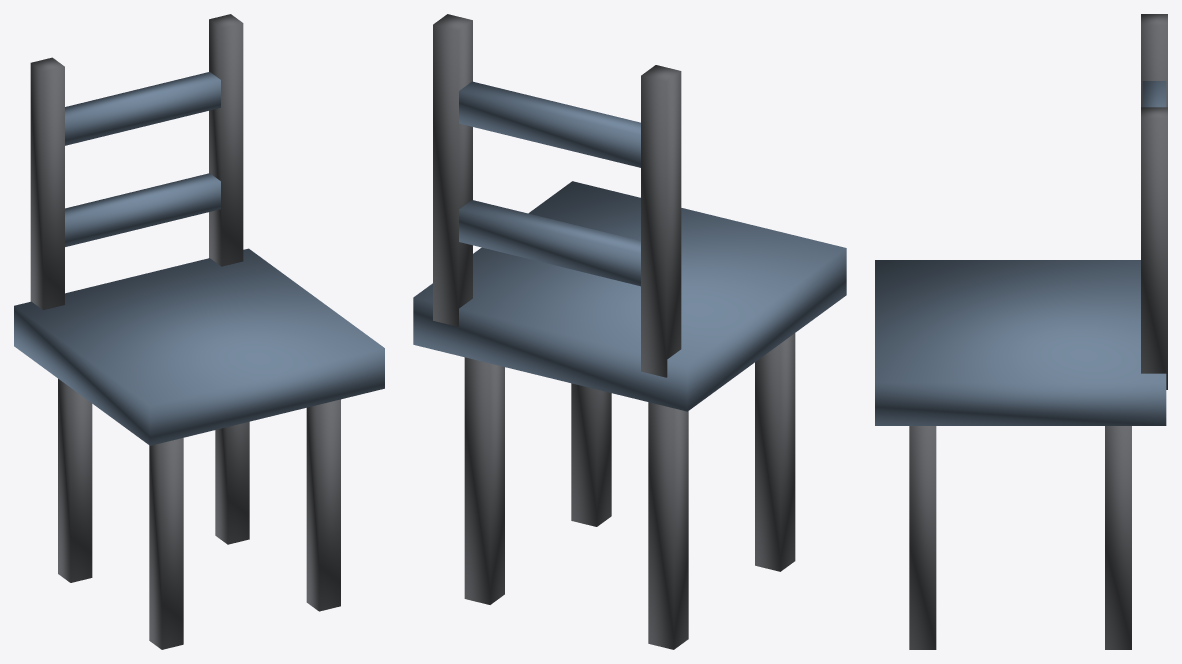
Rendered from armchair.glb.
3 views of the same model, side by side, from view 1: azimuth 30°, elevation 25°; view 2: azimuth 150°, elevation 25°; view 3: azimuth 270°, elevation 25° (orthographic). The views are drawn at different scales.
Parts seen in each view (by area): view 1: world; view 2: world; view 3: world.
Part boxes in pixels (x1,y1,x2,y2): world: [14, 14, 384, 649]; world: [413, 14, 846, 649]; world: [875, 14, 1167, 649].
Size of the model in its own units: 0.4846 by 0.9892 by 0.4891.
